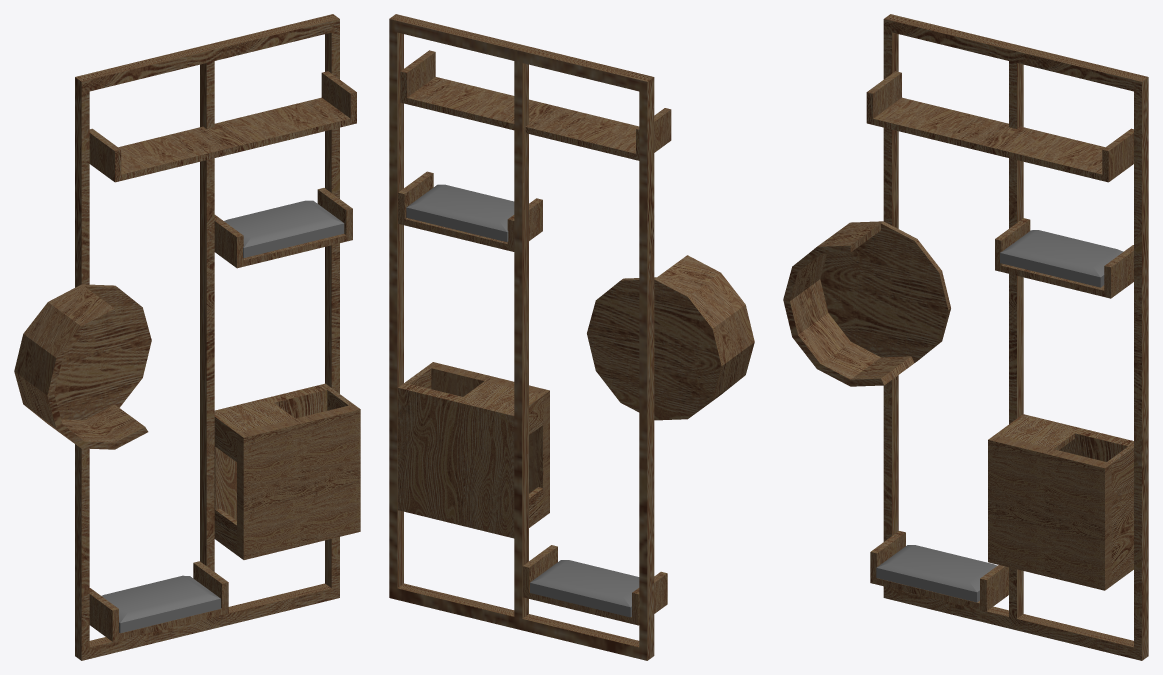
Rendered from Alto Cat Shelf and Tree.fbx.
The picture shows the model from 3 angles, left to right: view 1: azimuth 30°, elevation 25°; view 2: azimuth 150°, elevation 25°; view 3: azimuth 330°, elevation 25°; orthographic projection.
Visible parts, largest first — view 1: Alto_Cat_Shelf_and_Tree1_pCylinder40; view 2: Alto_Cat_Shelf_and_Tree1_pCylinder40; view 3: Alto_Cat_Shelf_and_Tree1_pCylinder40.
Boxes of the visible parts, box(x1,y1,x2,y2) form: Alto_Cat_Shelf_and_Tree1_pCylinder40: box(14, 14, 360, 660); Alto_Cat_Shelf_and_Tree1_pCylinder40: box(389, 14, 754, 660); Alto_Cat_Shelf_and_Tree1_pCylinder40: box(783, 14, 1148, 660).
Size of the model in its own units: 121 by 205 by 26.4.
